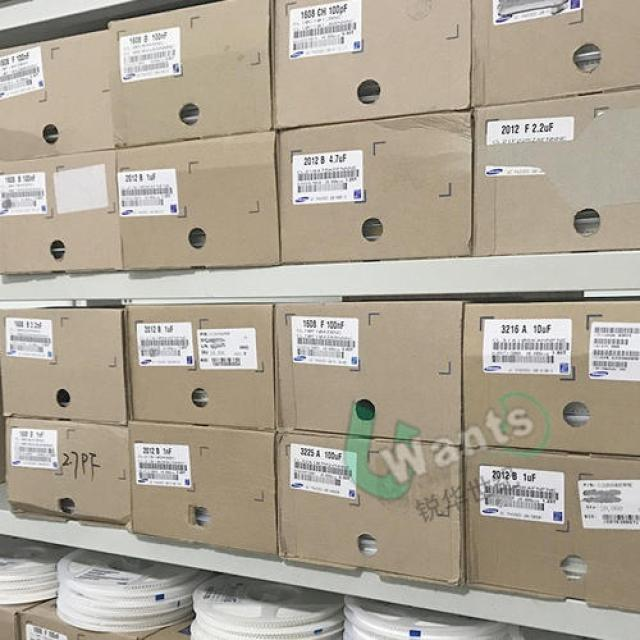box: (276, 430, 466, 588), (280, 110, 474, 264), (275, 301, 476, 447), (465, 447, 640, 614), (472, 88, 640, 255), (463, 301, 640, 456), (275, 0, 472, 129), (106, 0, 275, 148), (115, 129, 282, 271), (128, 421, 278, 557), (124, 305, 275, 431), (471, 0, 640, 108), (0, 148, 123, 275), (0, 308, 131, 425), (0, 29, 113, 161), (5, 419, 132, 526), (18, 596, 163, 639), (0, 604, 36, 639), (141, 617, 193, 639)
